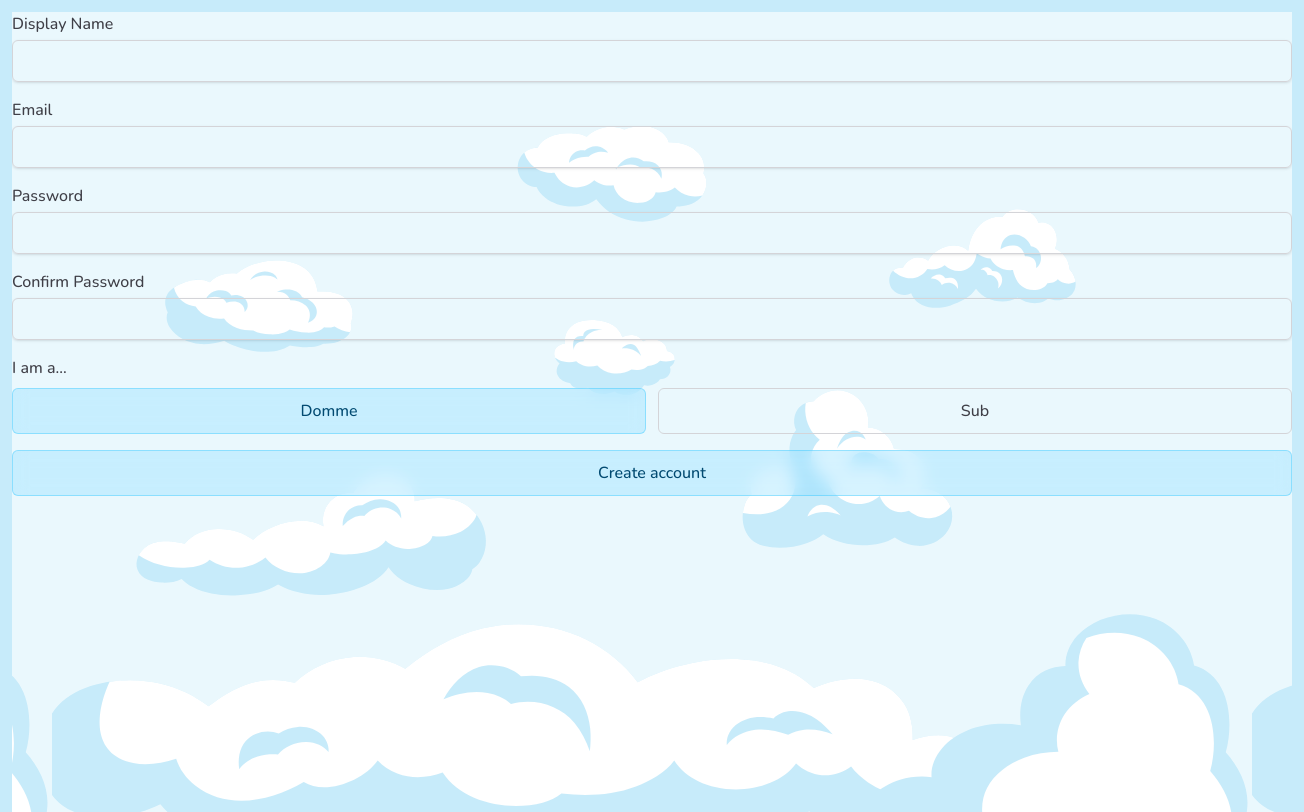
Test: RegisterForm › shows error from API response
Type "taken@example.com" into the field labelled "Email". click: (652, 147)
box: [12,126,1292,168]
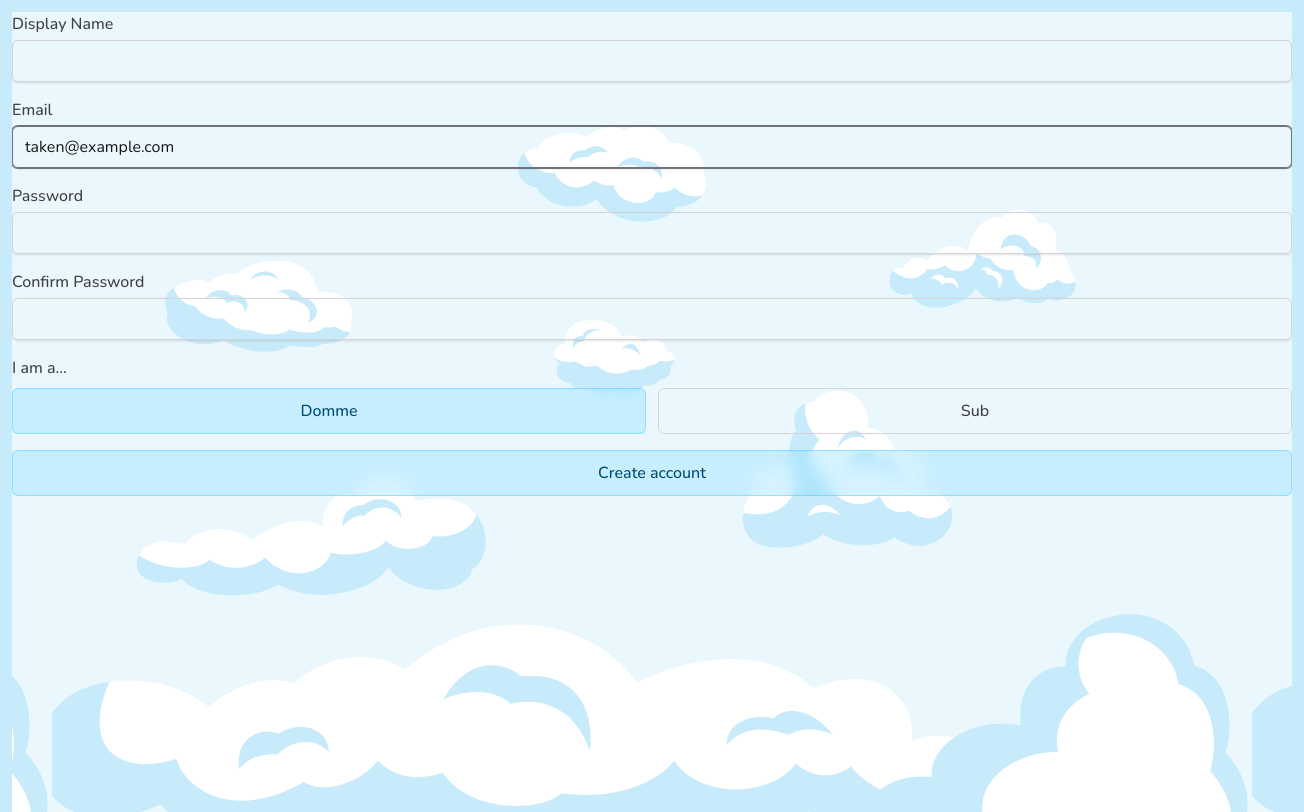
Type "password123" into the password field labelled "Password". click: (652, 233)
box: [12,212,1292,254]
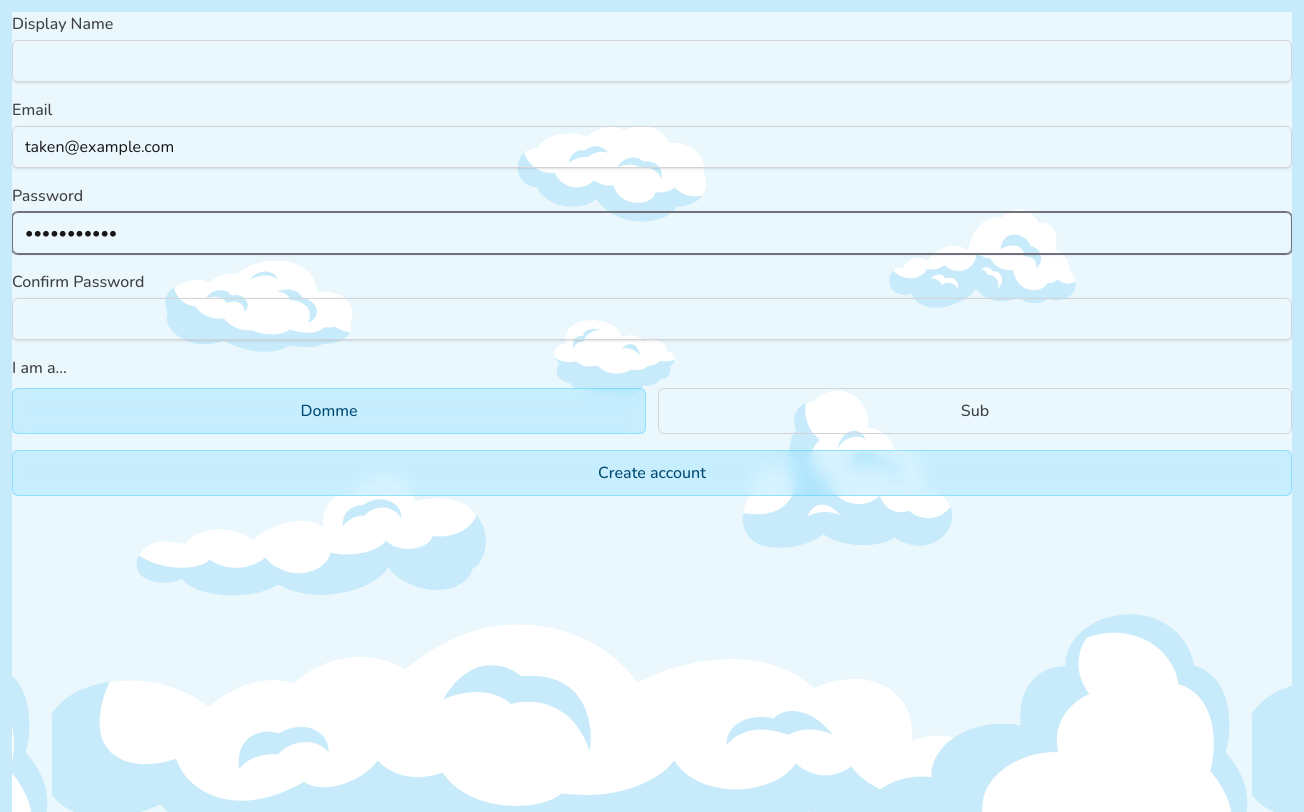
Type "password123" into the password field labelled "Confirm Password". click: (652, 319)
box: [12,298,1292,340]
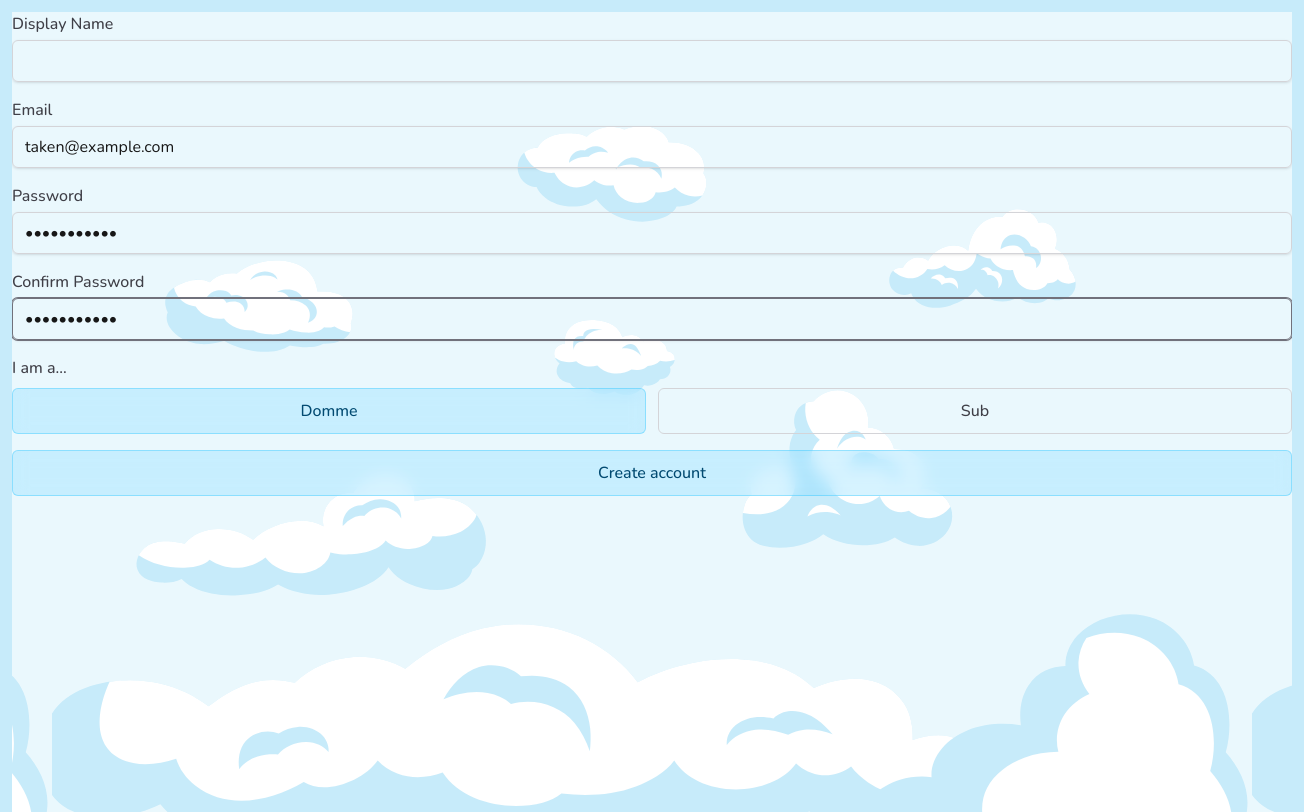
Click the button "Create account". click: click(652, 473)
box: [12,450,1292,496]
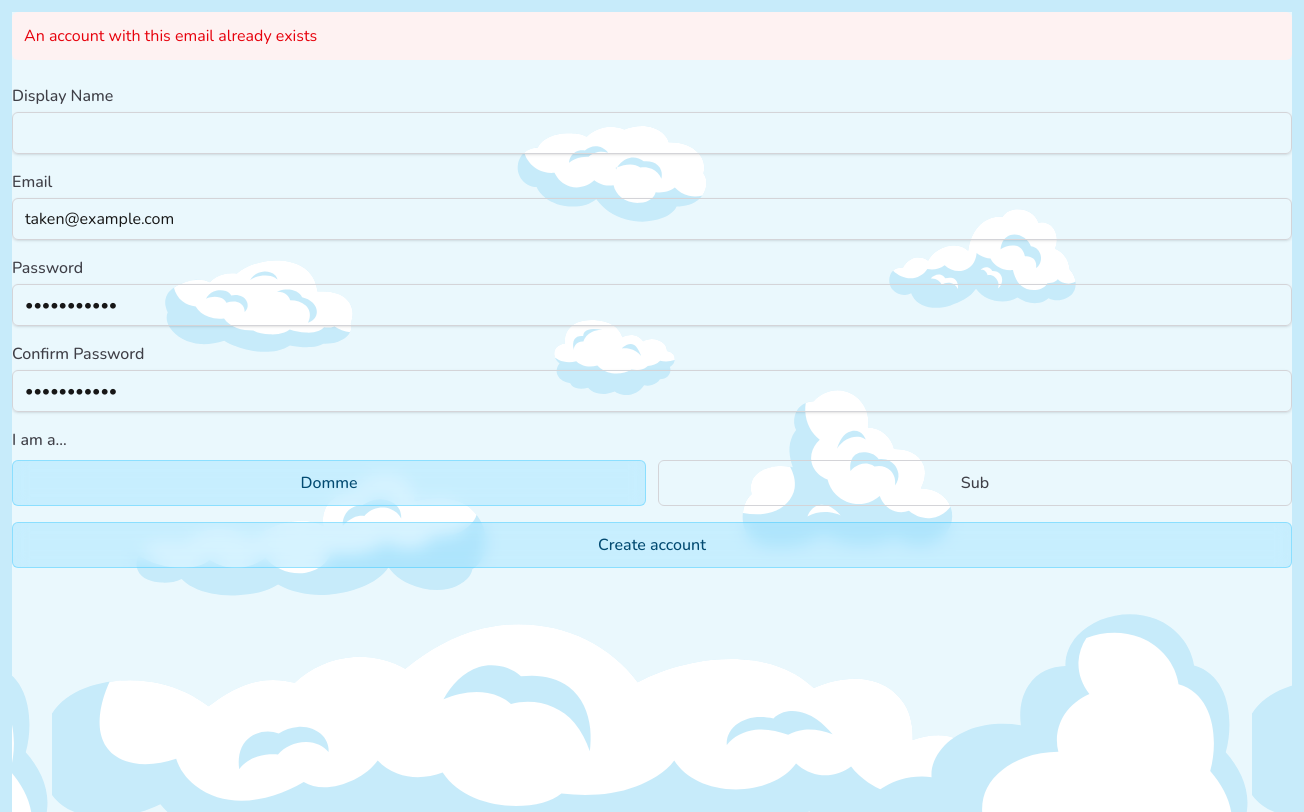
Expected: the text "An account with this email already exists" is shown, [12,12,1292,60]
